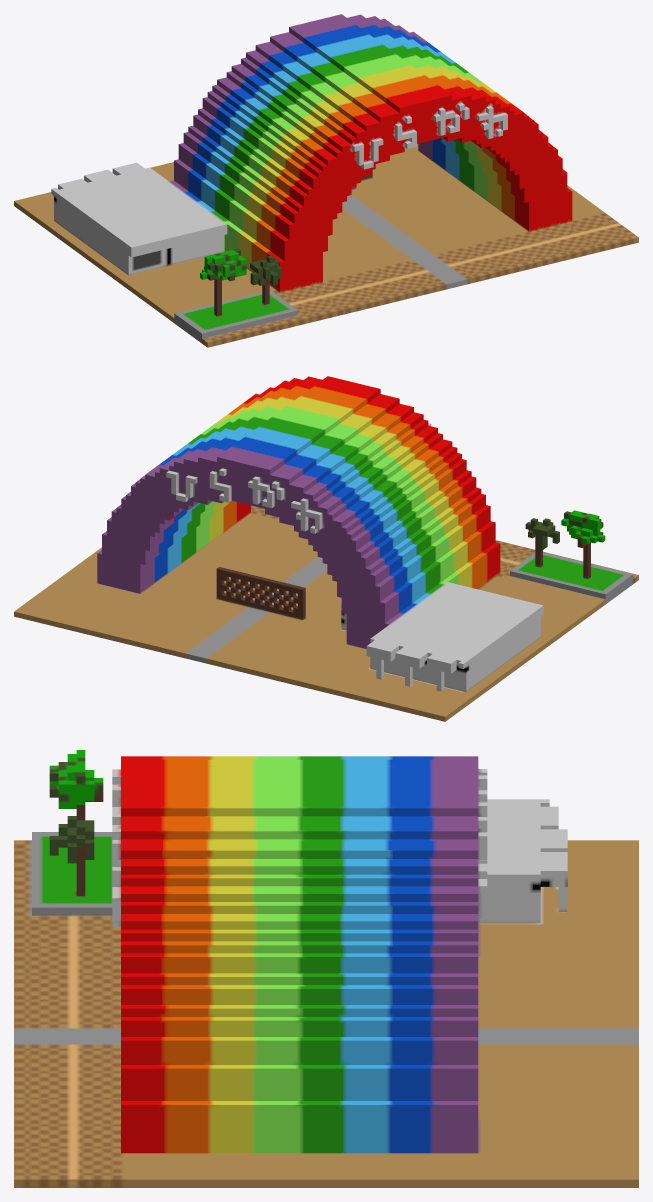
File: hirakawadoubutsuen.glb
3 views of the same model, one above another, from view 1: azimuth 30°, elevation 25°; view 2: azimuth 150°, elevation 25°; view 3: azimuth 270°, elevation 25° (orthographic). The views are drawn at different scales.
Visible parts, largest first — view 1: hirakawadoubutsuen; view 2: hirakawadoubutsuen; view 3: hirakawadoubutsuen.
Part boxes in pixels (x1=…): hirakawadoubutsuen: x1=14, y1=14, x2=638, y2=347; hirakawadoubutsuen: x1=14, y1=376, x2=638, y2=721; hirakawadoubutsuen: x1=14, y1=750, x2=638, y2=1187.
Size of the model in its own units: 1.8 by 0.64 by 1.4.
Materials: 1 (1 with a texture image).
